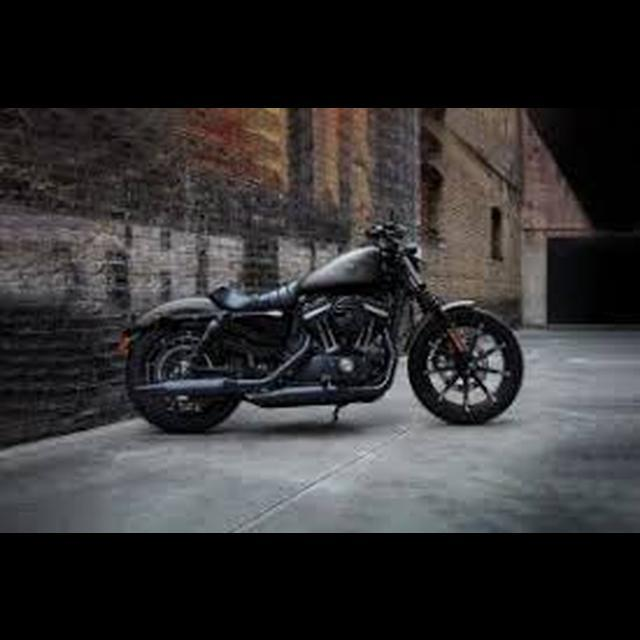motorcycle: (115, 199, 528, 437)
